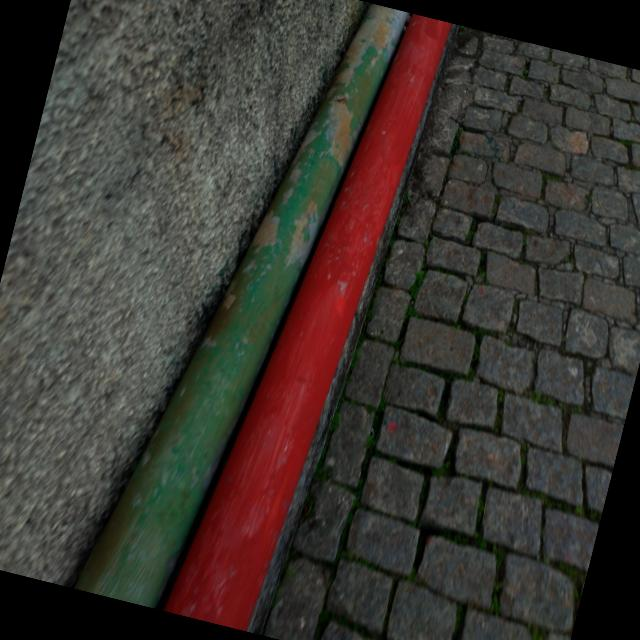gas: (74, 4, 410, 608), (161, 14, 452, 631)
